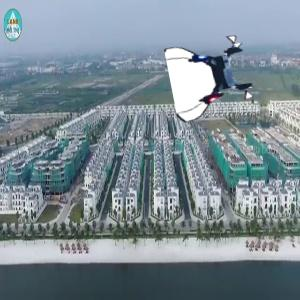drone: (171, 35, 256, 120)
